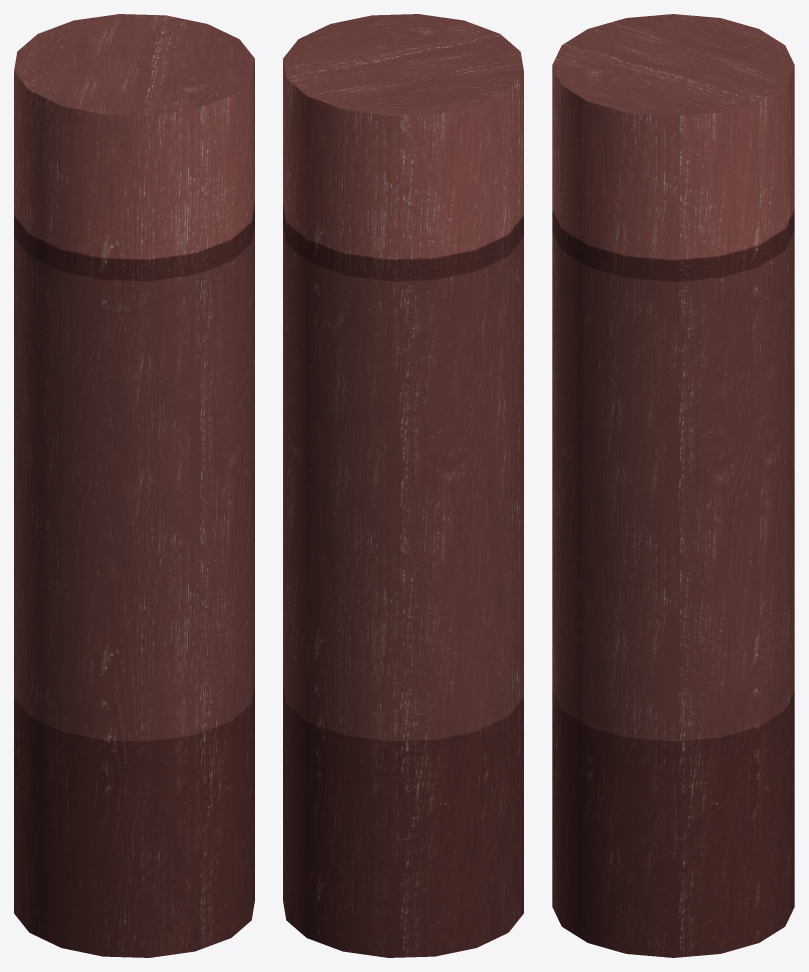
The model's file is SM_Sun_Gate_Pillar.fbx.
The picture shows the model from 3 angles, left to right: view 1: azimuth 30°, elevation 25°; view 2: azimuth 150°, elevation 25°; view 3: azimuth 270°, elevation 25°; orthographic projection.
Parts seen in each view (by area): view 1: SM_Sun_Gate_Pillar; view 2: SM_Sun_Gate_Pillar; view 3: SM_Sun_Gate_Pillar.
Boxes of the visible parts, box(x1,y1,x2,y2) form: SM_Sun_Gate_Pillar: box(14, 14, 254, 957); SM_Sun_Gate_Pillar: box(283, 14, 523, 957); SM_Sun_Gate_Pillar: box(552, 14, 794, 957).
Bounding box in the file's own units: 65 × 249 × 65.
